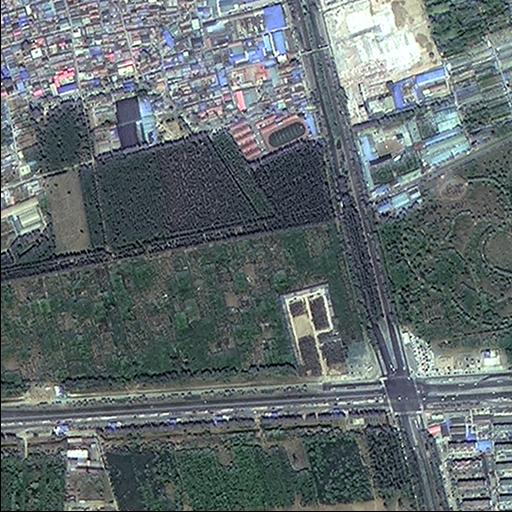school: (229, 110, 310, 166)
